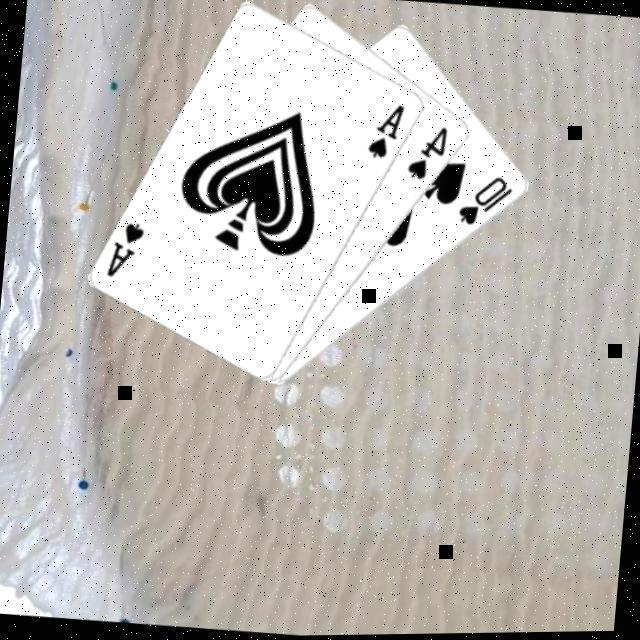10S: (453, 172, 517, 235)
4S: (402, 122, 451, 188)
AS: (101, 218, 148, 284), (362, 101, 407, 166)
